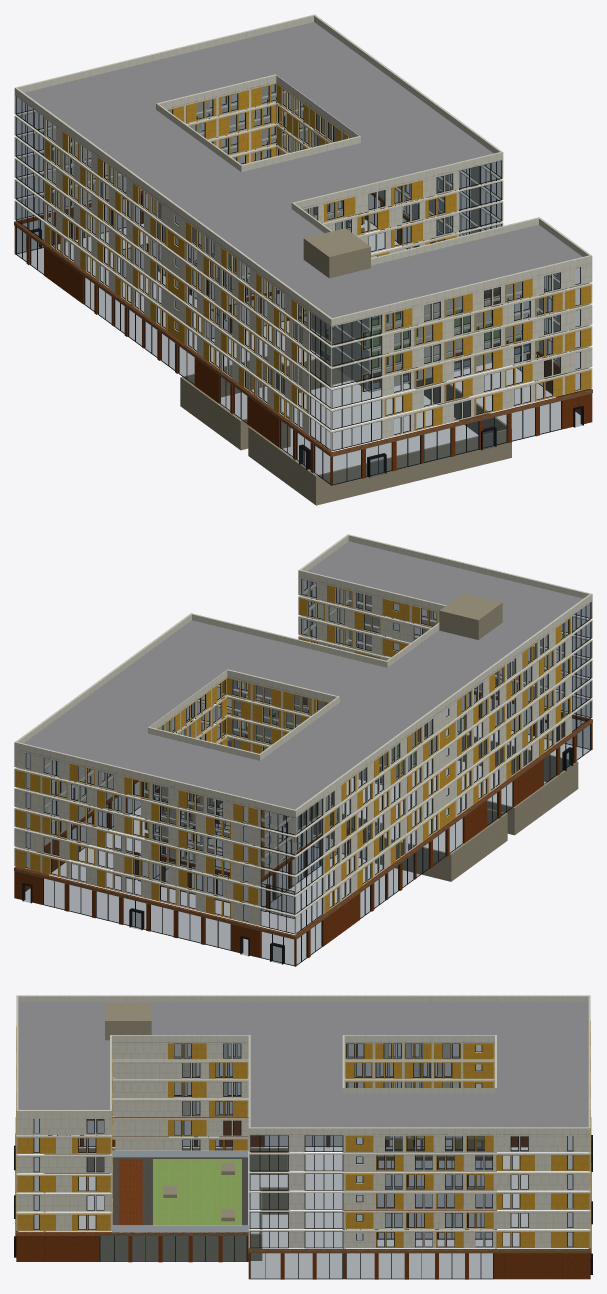
File: blackwell-shell.glb
3 views of the same model, one above another, from view 1: azimuth 30°, elevation 25°; view 2: azimuth 150°, elevation 25°; view 3: azimuth 270°, elevation 25° (orthographic). The views are drawn at different scales.
Visible parts, largest first — view 1: level_roof, level_L1, level_L5, level_L6, level_L7, level_L4, level_L2, level_L3, level_B1; view 2: level_roof, level_L1, level_L5, level_L6, level_L7, level_L3, level_L4, level_L2, level_B1; view 3: level_roof, level_L1, level_L5, level_L4, level_L6, level_L7, level_L3, level_L2, level_B1.
Part boxes in pixels (<box>): level_roof: <box>14,14,592,326</box>; level_L1: <box>14,190,592,485</box>; level_L5: <box>14,84,592,387</box>; level_L6: <box>14,102,592,366</box>; level_L7: <box>14,82,592,345</box>; level_L4: <box>14,92,592,409</box>; level_L2: <box>14,128,592,451</box>; level_L3: <box>14,109,592,430</box>; level_B1: <box>180,356,511,505</box>; level_roof: <box>14,534,592,817</box>; level_L1: <box>14,690,592,966</box>; level_L5: <box>14,588,592,875</box>; level_L6: <box>14,584,592,855</box>; level_L7: <box>14,577,592,835</box>; level_L3: <box>14,623,592,914</box>; level_L4: <box>14,600,592,894</box>; level_L2: <box>14,640,592,934</box>; level_B1: <box>283,734,578,881</box>; level_roof: <box>16,995,590,1134</box>; level_L1: <box>14,1117,592,1279</box>; level_L5: <box>16,1043,590,1190</box>; level_L4: <box>16,1059,590,1209</box>; level_L6: <box>16,1060,590,1171</box>; level_L7: <box>16,1021,590,1152</box>; level_L3: <box>16,1079,590,1228</box>; level_L2: <box>16,1098,590,1248</box>; level_B1: <box>43,1148,289,1260</box>.
Size of the model in its own units: 46.44 by 31.05 by 84.64.
13 materials, 9 textured.
